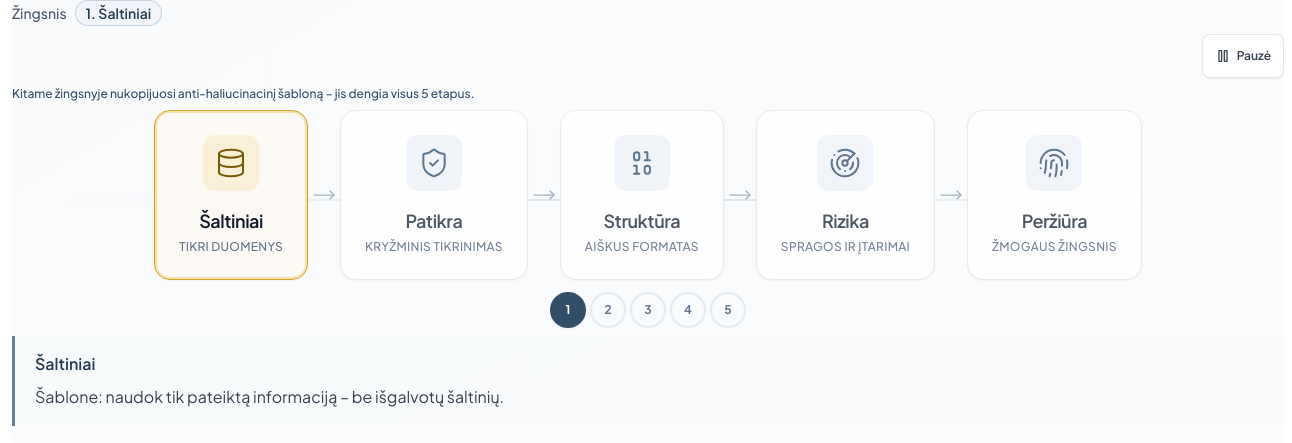
Test case: Diagram localization (AgentWorkflow, StrukturuotasProcesas, TurinioWorkflow) › HallucinationPipelineBlock (M7 slide 67.7) › pin via shell nav pauses autoplay control
What coordinates should you click on to do the following:
click the button "3"
I would click on:
 (648, 310)
Its box is [630,292,666,328].
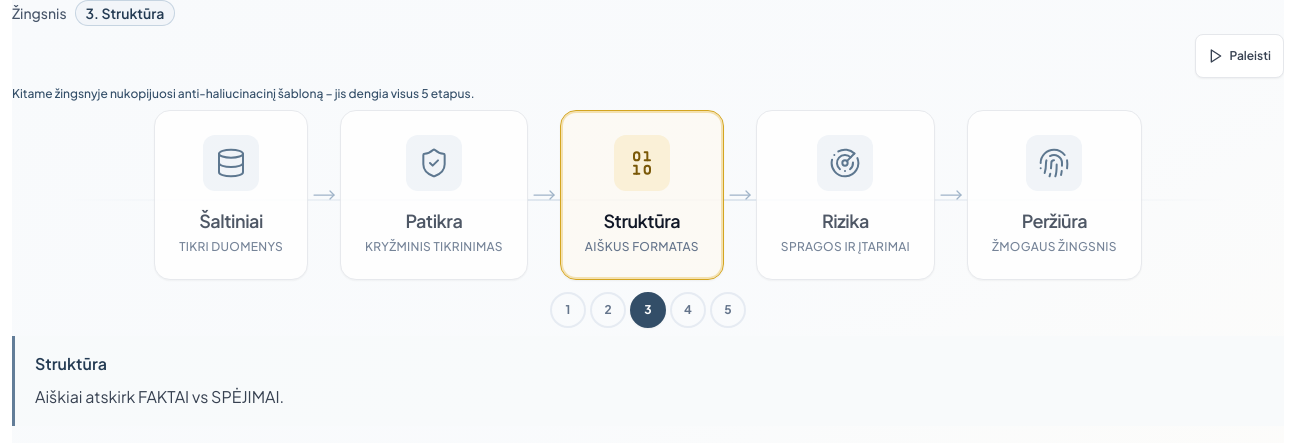
Check: the button "Paleisti" is shown, box [1194,34,1284,78]
